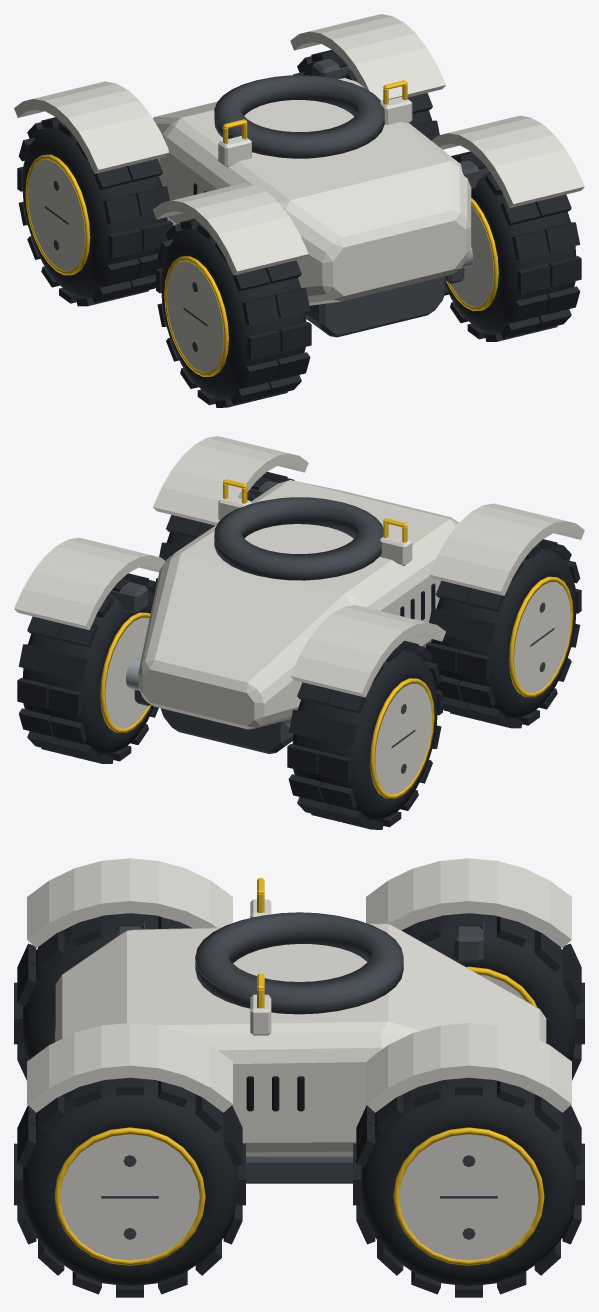
Rendered from scout_wheels.glb.
3 renders of one model, top to bottom at view 1: azimuth 30°, elevation 25°; view 2: azimuth 150°, elevation 25°; view 3: azimuth 270°, elevation 25°, orthographic. The views are drawn at different scales.
Parts seen in each view (by area): view 1: ScoutWheelsModule.006_Body, TireAssembly.022, TireAssembly.023, TireAssembly.020, TireAssembly.021; view 2: ScoutWheelsModule.006_Body, TireAssembly.023, TireAssembly.022, TireAssembly.021, TireAssembly.020; view 3: ScoutWheelsModule.006_Body, TireAssembly.021, TireAssembly.020, TireAssembly.023, TireAssembly.022.
Part boxes in pixels (x1,y1,x2,y2): ScoutWheelsModule.006_Body: [14, 14, 584, 337]; TireAssembly.022: [156, 218, 311, 407]; TireAssembly.023: [17, 117, 172, 306]; TireAssembly.020: [444, 151, 581, 341]; TireAssembly.021: [293, 49, 439, 140]; ScoutWheelsModule.006_Body: [14, 436, 584, 753]; TireAssembly.023: [287, 640, 442, 829]; TireAssembly.022: [426, 539, 581, 728]; TireAssembly.021: [17, 573, 158, 763]; TireAssembly.020: [156, 471, 294, 582]; ScoutWheelsModule.006_Body: [27, 858, 571, 1183]; TireAssembly.021: [353, 1077, 584, 1297]; TireAssembly.020: [14, 1077, 245, 1297]; TireAssembly.023: [401, 913, 584, 1080]; TireAssembly.022: [14, 913, 192, 1080].
Bounding box in the file's own units: 1.65 × 0.9923 × 1.92.
